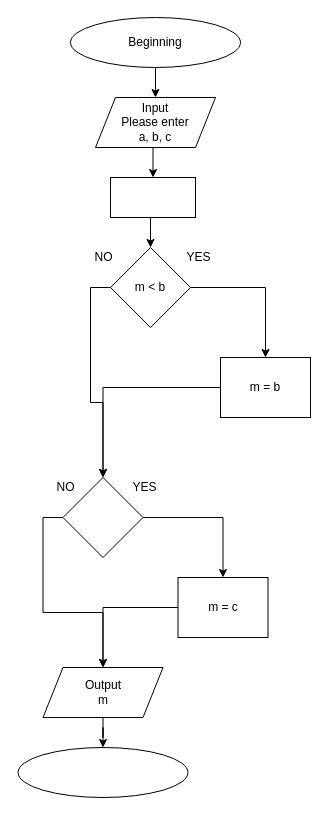
This 328x815 diagram has some shape labels left out. The shapes that lost their labels are listed below. From the top down, each one's box as (x1, y1, x2, y2) in pixels, then its label:
(110, 176, 196, 218): m = a
(62, 476, 143, 558): m < c
(17, 746, 188, 798): END
